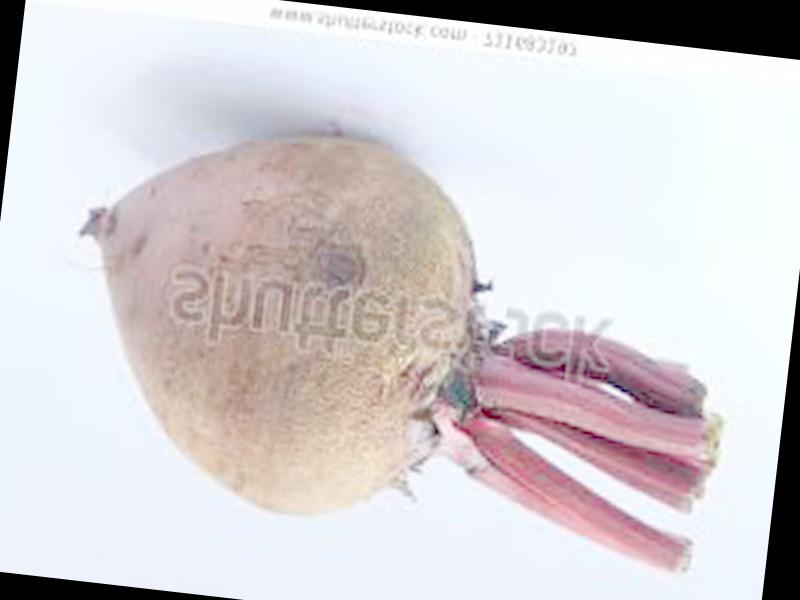Beet: (59, 111, 738, 567)
